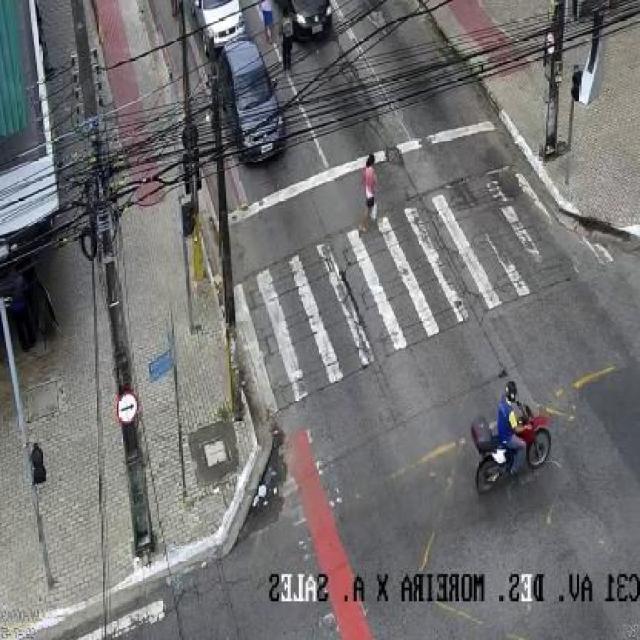Car: (218, 39, 286, 166), (186, 0, 249, 52), (272, 0, 332, 38)
Cycle: (468, 402, 554, 494)
